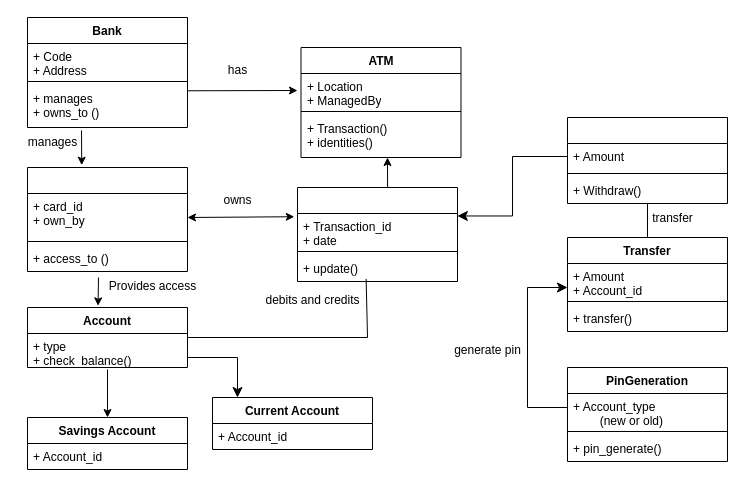
This 745x490 diagram has some shape labels left out. Here are the shapes that lost their labels. From the top down, the box of each, then its label:
(566, 116, 728, 204): Withdrawal
(26, 166, 188, 272): Debit Card
(296, 186, 458, 282): ATMTransactions
